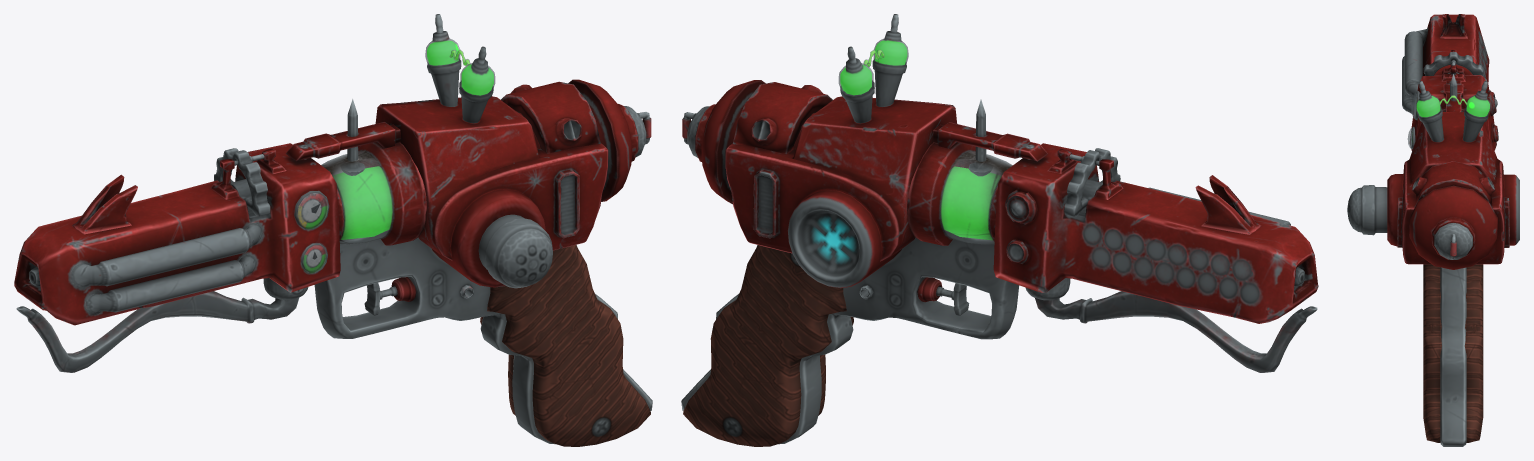
File: pestilence_retro_sci-fi_handgun.glb
3 views of the same model, side by side, from view 1: azimuth 30°, elevation 25°; view 2: azimuth 150°, elevation 25°; view 3: azimuth 270°, elevation 25° (orthographic). The views are drawn at different scales.
Parts seen in each view (by area): view 1: Barrel_LP, Base_LP, LGrip_LP, GunBase_LP, Chamber_LP, Ignition_LP, HammerLock_LP, LCartridge_LP, HeatVent_LP, Coils_LP, Goop, Hammer_LP (+9 smaller); view 2: Barrel_LP, Base_LP, LGrip_LP1, GunBase_LP, Chamber_LP, HeatVent_LP, Ignition_LP, HammerLock_LP, Coils_LP, Goop, Hammer_LP, Bridge_LP (+8 smaller); view 3: Base_LP, Barrel_LP, GunBase_LP, Hammer_LP, LGrip_LP, LGrip_LP1, Coils_LP, HammerLock_LP, LCartridge_LP, HeatVent_LP, BackCartridge_LP, Goop_2 (+6 smaller).
Boxes of the visible parts, bbox=[...] form: Barrel_LP: bbox=[14, 143, 340, 325]; Base_LP: bbox=[372, 96, 608, 260]; LGrip_LP: bbox=[487, 245, 650, 446]; GunBase_LP: bbox=[314, 230, 652, 444]; Chamber_LP: bbox=[321, 142, 426, 245]; Ignition_LP: bbox=[16, 291, 299, 372]; HammerLock_LP: bbox=[501, 81, 600, 153]; LCartridge_LP: bbox=[478, 214, 552, 288]; HeatVent_LP: bbox=[432, 189, 545, 287]; Coils_LP: bbox=[425, 14, 495, 123]; Goop: bbox=[334, 166, 392, 239]; Hammer_LP: bbox=[519, 79, 631, 201]; Barrel_LP: bbox=[993, 143, 1318, 323]; Base_LP: bbox=[725, 96, 957, 261]; LGrip_LP1: bbox=[683, 245, 846, 446]; GunBase_LP: bbox=[681, 230, 1019, 444]; Chamber_LP: bbox=[907, 142, 1012, 245]; HeatVent_LP: bbox=[787, 190, 901, 288]; Ignition_LP: bbox=[1035, 291, 1317, 372]; HammerLock_LP: bbox=[733, 82, 832, 153]; Coils_LP: bbox=[838, 14, 908, 123]; Goop: bbox=[941, 166, 999, 239]; Hammer_LP: bbox=[701, 80, 814, 204]; Bridge_LP: bbox=[933, 122, 1047, 161]; Base_LP: bbox=[1397, 111, 1509, 264]; Barrel_LP: bbox=[1402, 14, 1496, 150]; GunBase_LP: bbox=[1440, 267, 1466, 446]; Hammer_LP: bbox=[1409, 185, 1497, 269]; LGrip_LP: bbox=[1423, 264, 1441, 442]; LGrip_LP1: bbox=[1464, 264, 1483, 442]; Coils_LP: bbox=[1416, 81, 1490, 142]; HammerLock_LP: bbox=[1412, 161, 1495, 207]; LCartridge_LP: bbox=[1347, 185, 1387, 235]; HeatVent_LP: bbox=[1387, 174, 1519, 246]; BackCartridge_LP: bbox=[1432, 217, 1475, 259]; Goop_2: bbox=[1416, 96, 1489, 117].
Bounding box in the file's own units: 48.37 × 31.74 × 15.89.
1 material, 1 textured.
